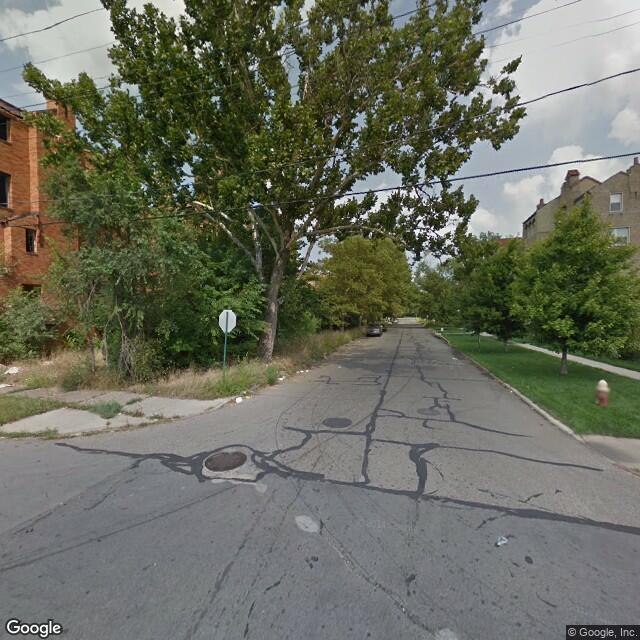litter: (3, 365, 22, 374), (497, 534, 508, 548), (234, 395, 244, 403), (295, 368, 309, 373), (276, 375, 287, 381), (450, 355, 459, 361), (336, 363, 342, 367), (509, 390, 513, 392)
